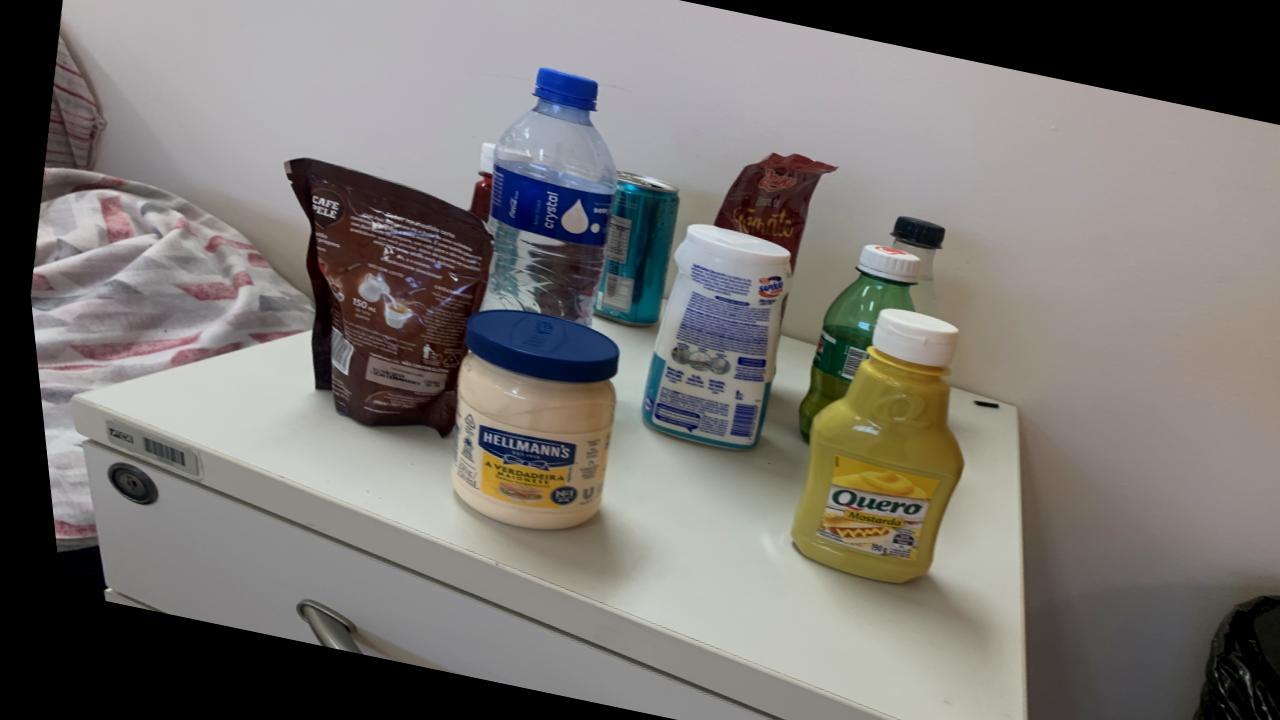Cleaner-Cleanup_Items: (631, 224, 786, 450)
Coffee-Pantry_Items: (280, 158, 487, 437)
Guarana-Drinks: (789, 244, 915, 439)
Ketchup-Pantry_Items: (464, 142, 493, 222)
Mayonnaise-Pantry_Items: (439, 309, 612, 530)
Mustard-Pantry_Items: (779, 308, 953, 583)
Soda-Drinks: (885, 216, 940, 318)
Tea-Drinks: (587, 172, 675, 327)
Tomato_Sauce-Pantry_Items: (710, 153, 832, 267)
Water_Bottle-Drinks: (474, 68, 614, 326)
